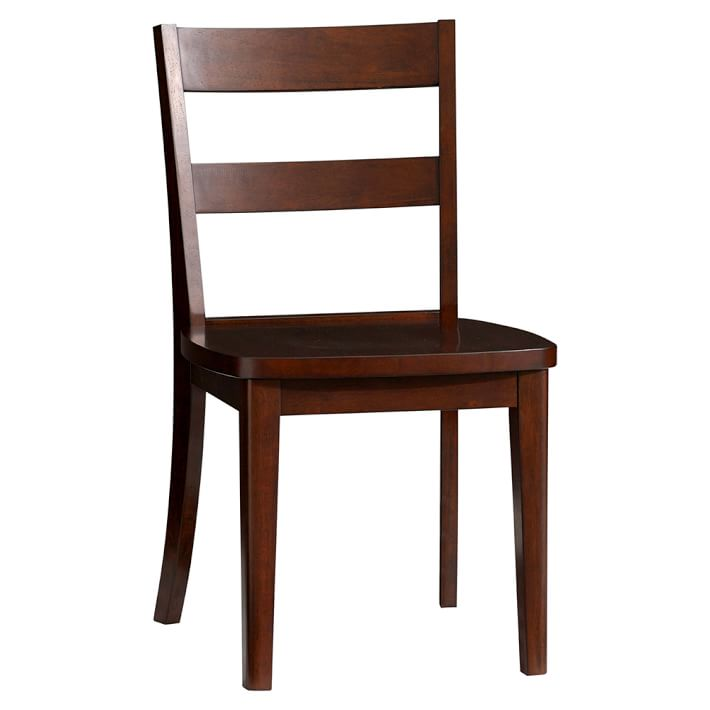chairs: (134, 17, 562, 692)
